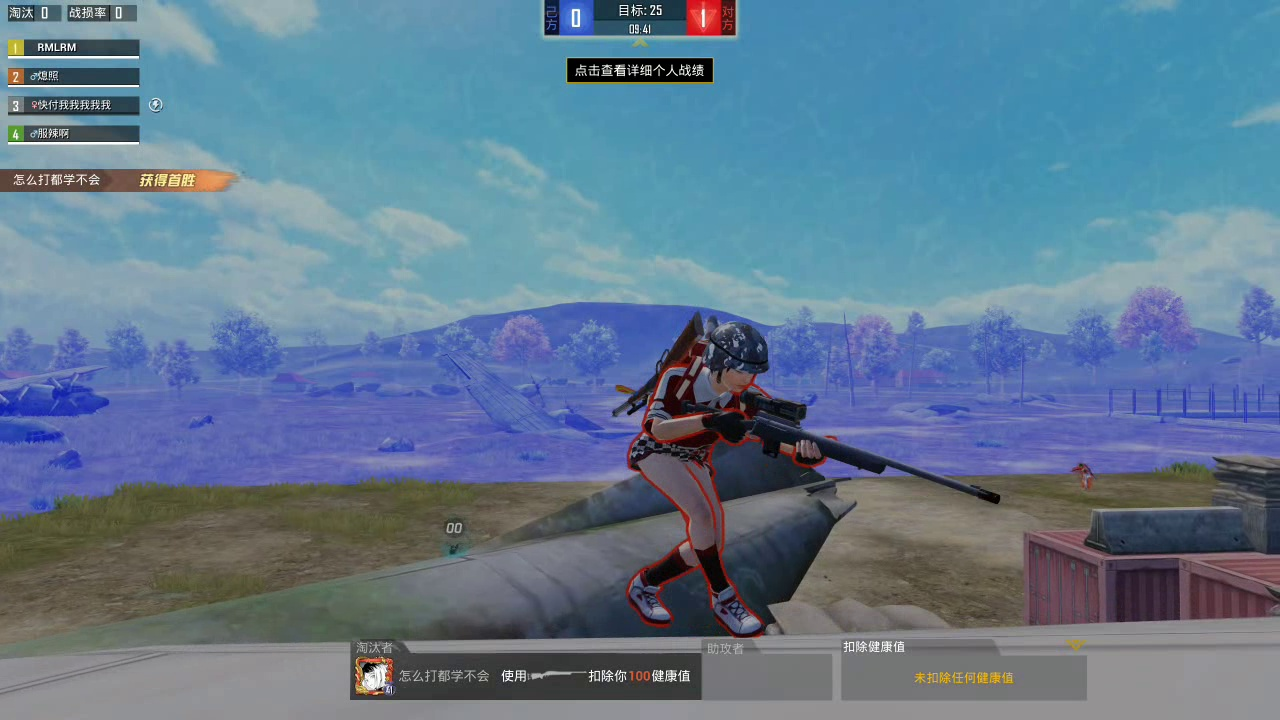enemy: (626, 326, 817, 649), (1072, 458, 1092, 495)
